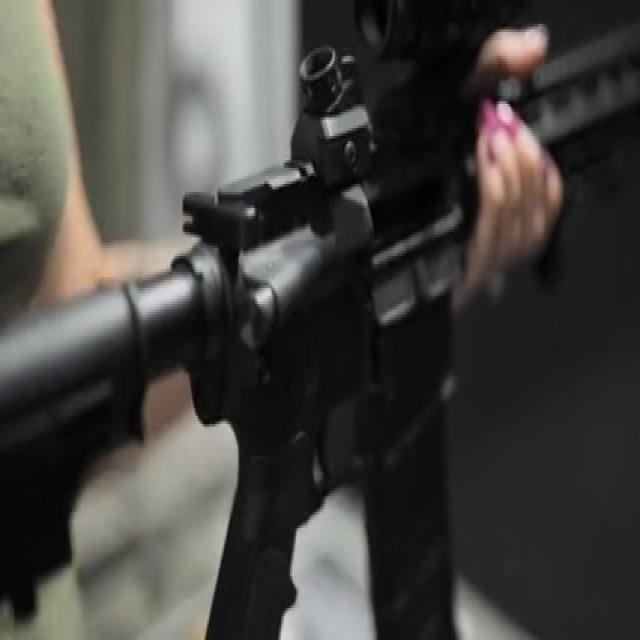Gun_Holder: (29, 0, 637, 640)
